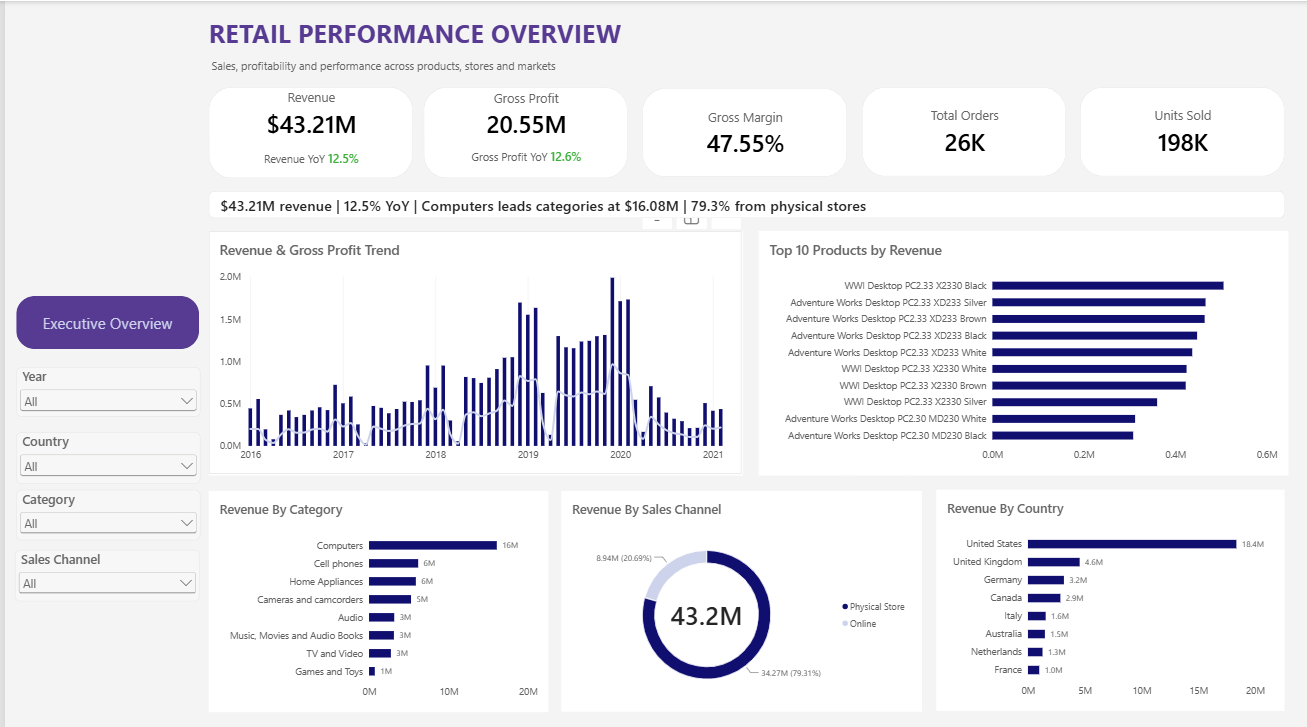

The page's visual inventory and layout, read from the dashboard file:
{"tool":"powerbi","page":{"name":"Executive Overview","canvas":[1920,1080],"ordinal":0},"visuals":[{"type":"cardVisual","fields":{"Data":["customers.Total Revenue"]},"box":[299.6,127.4,300,134.1],"z":0},{"type":"cardVisual","fields":{"Data":["customers.Gross Profit"]},"box":[616.3,127.4,300,134.1],"z":1000},{"type":"cardVisual","fields":{"Data":["customers.Gross Margin %"]},"box":[939,129.7,301.8,130.3],"z":2000},{"type":"cardVisual","title":"Orders","fields":{"Data":["customers.Total Orders"]},"box":[1263.2,127.4,299.6,131.9],"z":3000},{"type":"cardVisual","fields":{"Data":["customers.Units Sold"]},"box":[1582.9,127.4,301.8,131.9],"z":4000},{"type":"lineClusteredColumnComboChart","title":"Revenue & Gross Profit Trend","fields":{"Y2":["customers.Gross Profit"],"Y":["customers.Total Revenue"],"Category":["DateTable.Month Start"]},"box":[300,338,786,360],"z":5000},{"type":"barChart","title":"Revenue By Country","fields":{"Category":["stores.Country"],"Y":["customers.Total Revenue"]},"box":[1371.8,720.5,512.8,325.6],"z":6000},{"type":"barChart","title":"Revenue By Category","fields":{"Category":["products.Category"],"Y":["customers.Total Revenue"]},"box":[300,720.7,500,325.6],"z":7000},{"type":"barChart","title":"Top 10 Products by Revenue","fields":{"Category":["products.Product_Name"],"Y":["customers.Total Revenue"]},"box":[1110,338,780,360],"z":8000},{"type":"donutChart","title":"Revenue By Sales Channel","fields":{"Category":["stores.Sales Channel"],"Y":["customers.Total Revenue"]},"box":[819.1,721.6,530.9,325.1],"z":9000},{"type":"slicer","fields":{"Values":["stores.Country"]},"box":[15.7,634.3,271.4,75.7],"z":10000},{"type":"slicer","fields":{"Values":["DateTable.Date.Variation.Date Hierarchy.Year"]},"box":[15.7,540,271.4,72.9],"z":11000},{"type":"slicer","fields":{"Values":["products.Category"]},"box":[15.7,720,271.4,74.3],"z":12000},{"type":"slicer","fields":{"Values":["stores.Sales Channel"]},"box":[15,808,272,76],"z":13000},{"type":"textbox","box":[300,21.4,750,107.1],"z":14000},{"type":"actionButton","title":"Executive Overview","box":[16,434,269.2,78.2],"z":15000},{"type":"cardVisual","fields":{"Data":["DateTable.Key Takeaway"]},"box":[300,280,1584,40],"z":16000}]}

Visuals, with their boxes in screenshot pixels (x1, y1, x2, y2), scaled from the page's 1920x1080 canvas onto the 1307x727 screenshot:
cardVisual - customers.Total Revenue: bbox(204, 86, 408, 176)
cardVisual - customers.Gross Profit: bbox(420, 86, 624, 176)
cardVisual - customers.Gross Margin %: bbox(639, 87, 845, 175)
"Orders" cardVisual: bbox(860, 86, 1064, 175)
cardVisual - customers.Units Sold: bbox(1078, 86, 1283, 175)
"Revenue & Gross Profit Trend" lineClusteredColumnComboChart: bbox(204, 228, 739, 470)
"Revenue By Country" barChart: bbox(934, 485, 1283, 704)
"Revenue By Category" barChart: bbox(204, 485, 545, 704)
"Top 10 Products by Revenue" barChart: bbox(756, 228, 1287, 470)
"Revenue By Sales Channel" donutChart: bbox(558, 486, 919, 705)
slicer - stores.Country: bbox(11, 427, 195, 478)
slicer - DateTable.Date.Variation.Date Hierarchy.Year: bbox(11, 364, 195, 413)
slicer - products.Category: bbox(11, 485, 195, 535)
slicer - stores.Sales Channel: bbox(10, 544, 195, 595)
textbox: bbox(204, 14, 715, 86)
"Executive Overview" actionButton: bbox(11, 292, 194, 345)
cardVisual - DateTable.Key Takeaway: bbox(204, 188, 1282, 215)
